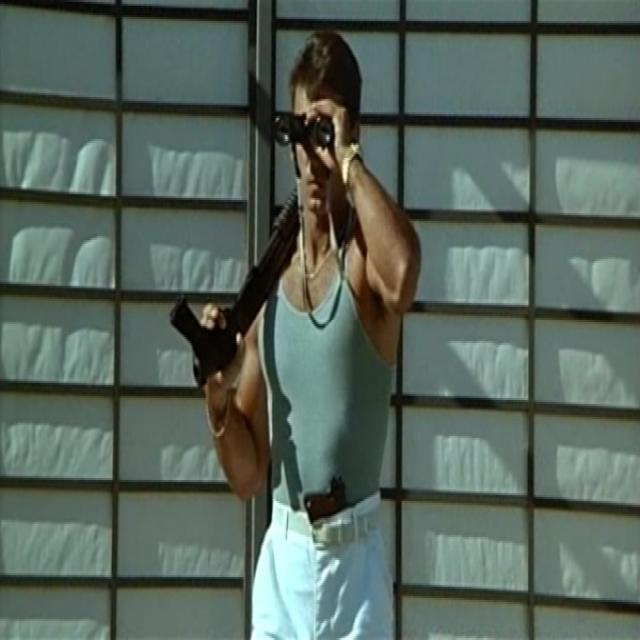rifle: (171, 186, 303, 398)
